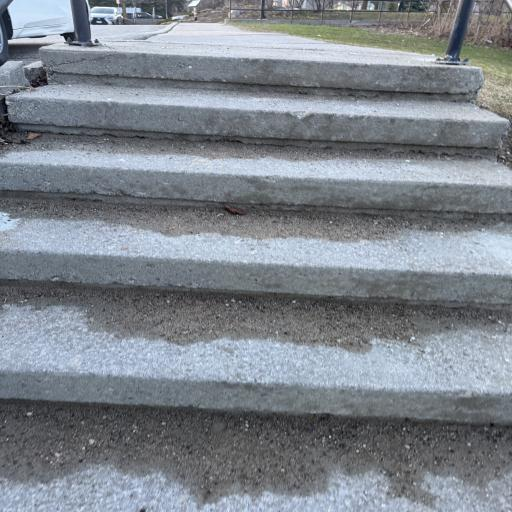Stairs: (0, 31, 512, 423)
